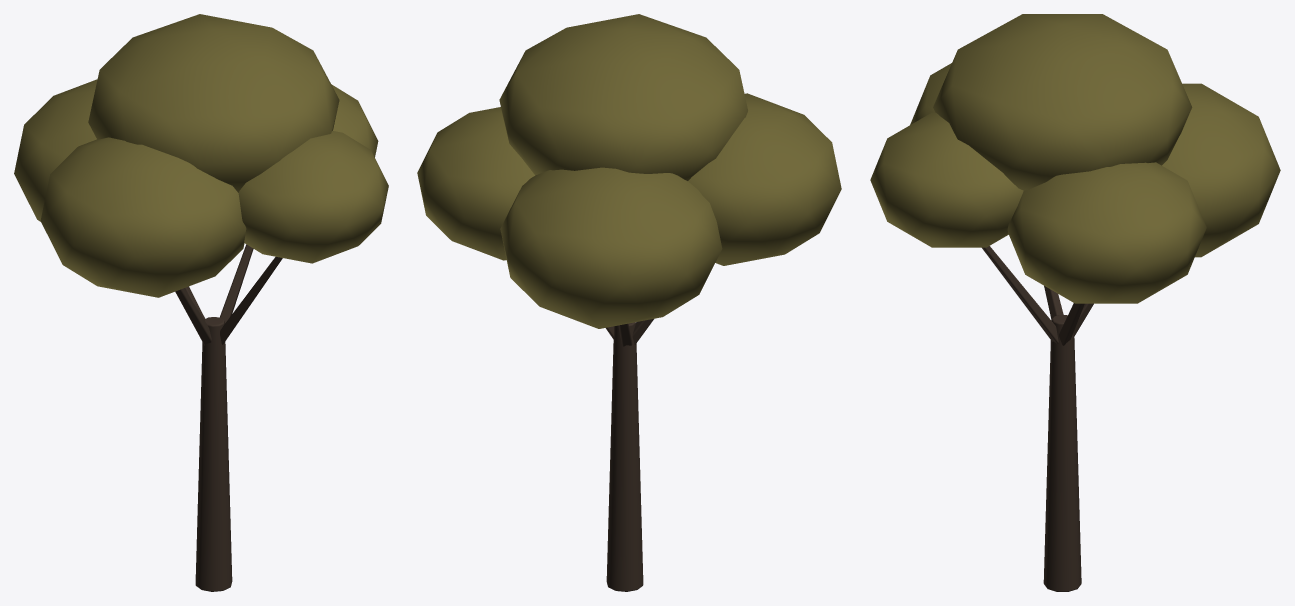
Rendered from boom.glb.
The picture shows the model from 3 angles, left to right: view 1: azimuth 30°, elevation 25°; view 2: azimuth 150°, elevation 25°; view 3: azimuth 270°, elevation 25°; orthographic projection.
Parts seen in each view (by area): view 1: Boom; view 2: Boom; view 3: Boom.
Part boxes in pixels (x1,y1,x2,y2): Boom: (14,14,388,591); Boom: (417,14,841,591); Boom: (870,14,1280,591).
Bounding box in the file's own units: 4.71 × 7.15 × 4.75.
